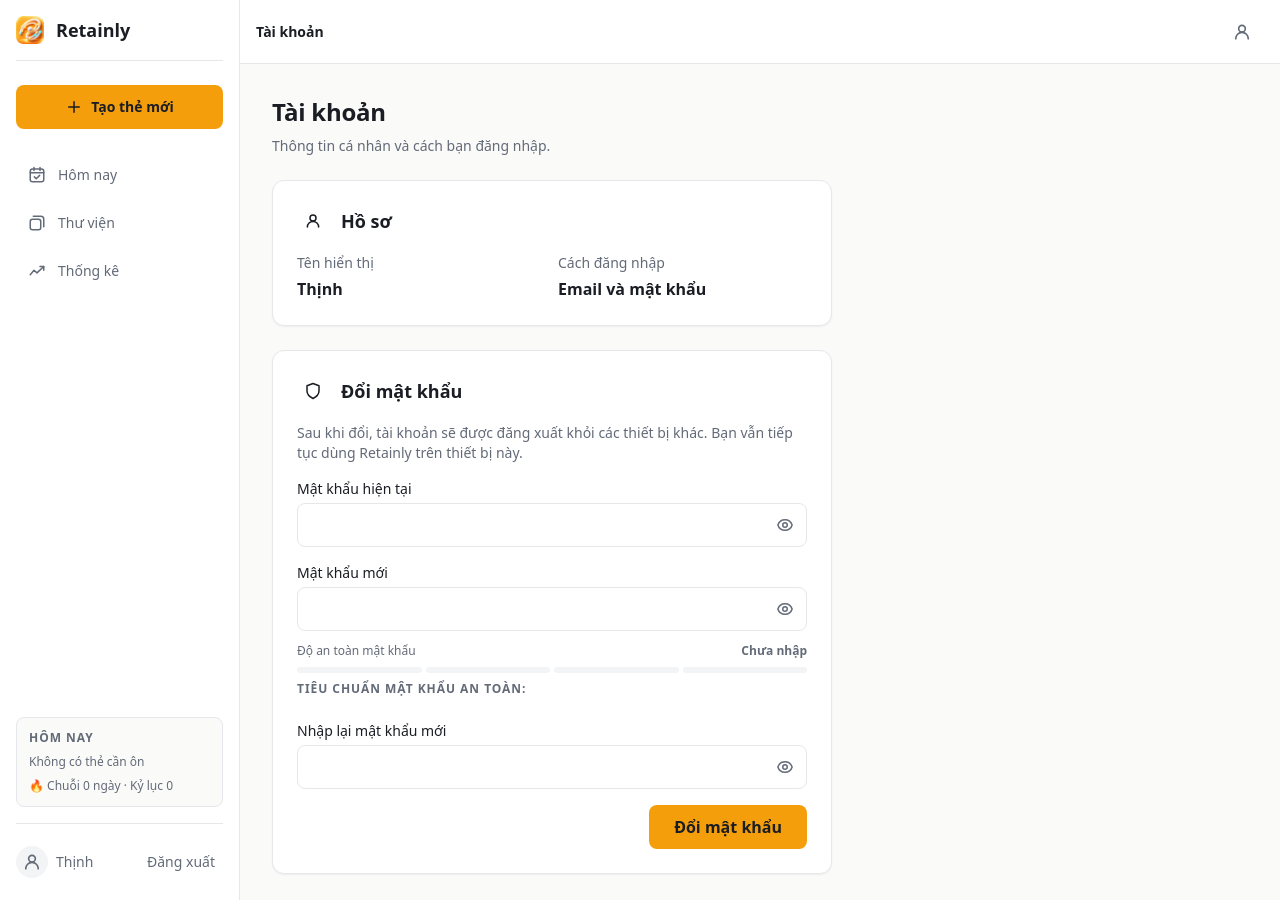
Test: E11-S1-T2 — màn Tài khoản › TC-076: sai mật khẩu hiện tại (401) báo ở đúng ô và KHÔNG bị đẩy về /login
In the password field labelled "Mật khẩu hiện tại": (552, 525) [297,503,807,547], type "mat-khau-cu"
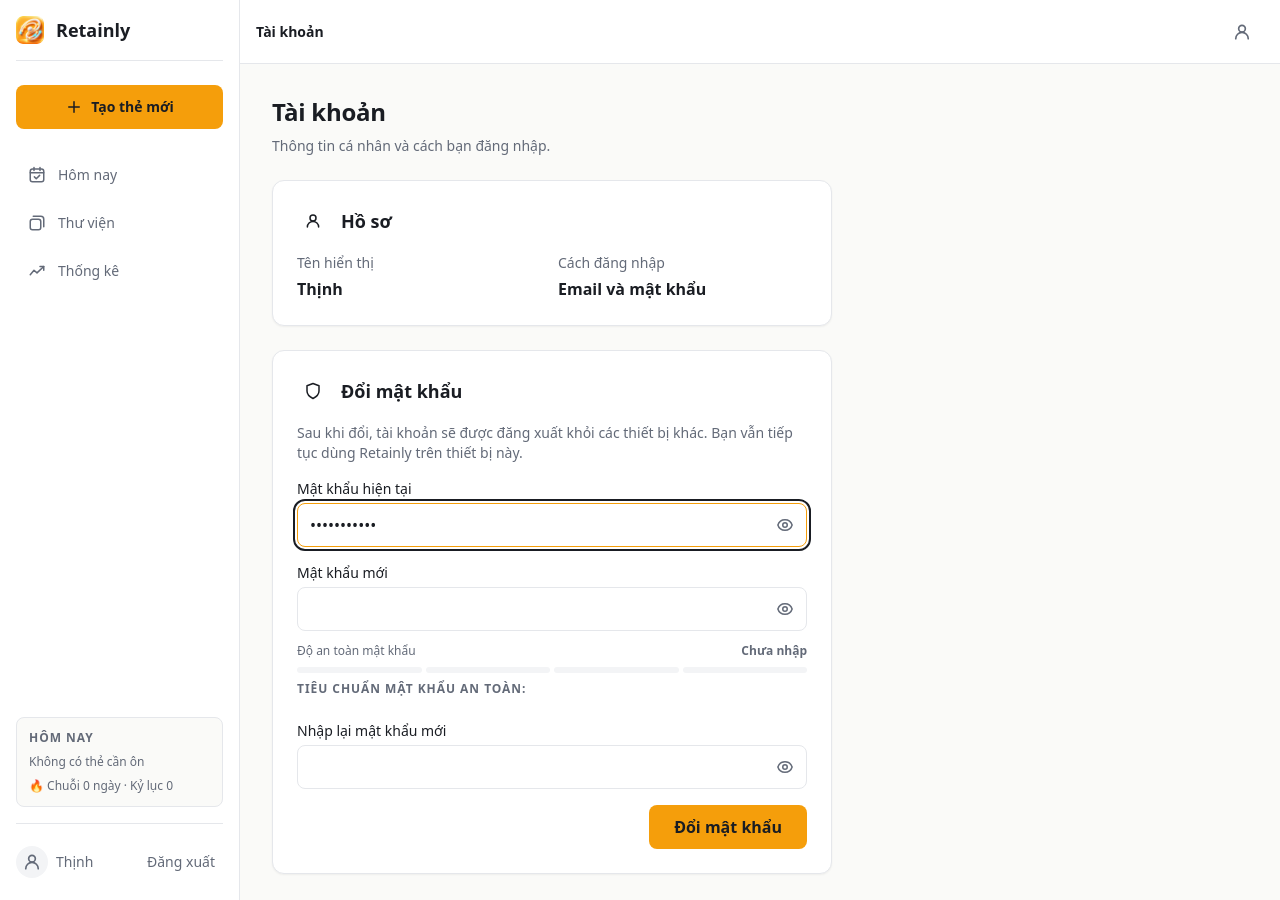
In the password field labelled "Mật khẩu mới": (552, 609) [297,587,807,631], type "Mat-khau-moi-3"
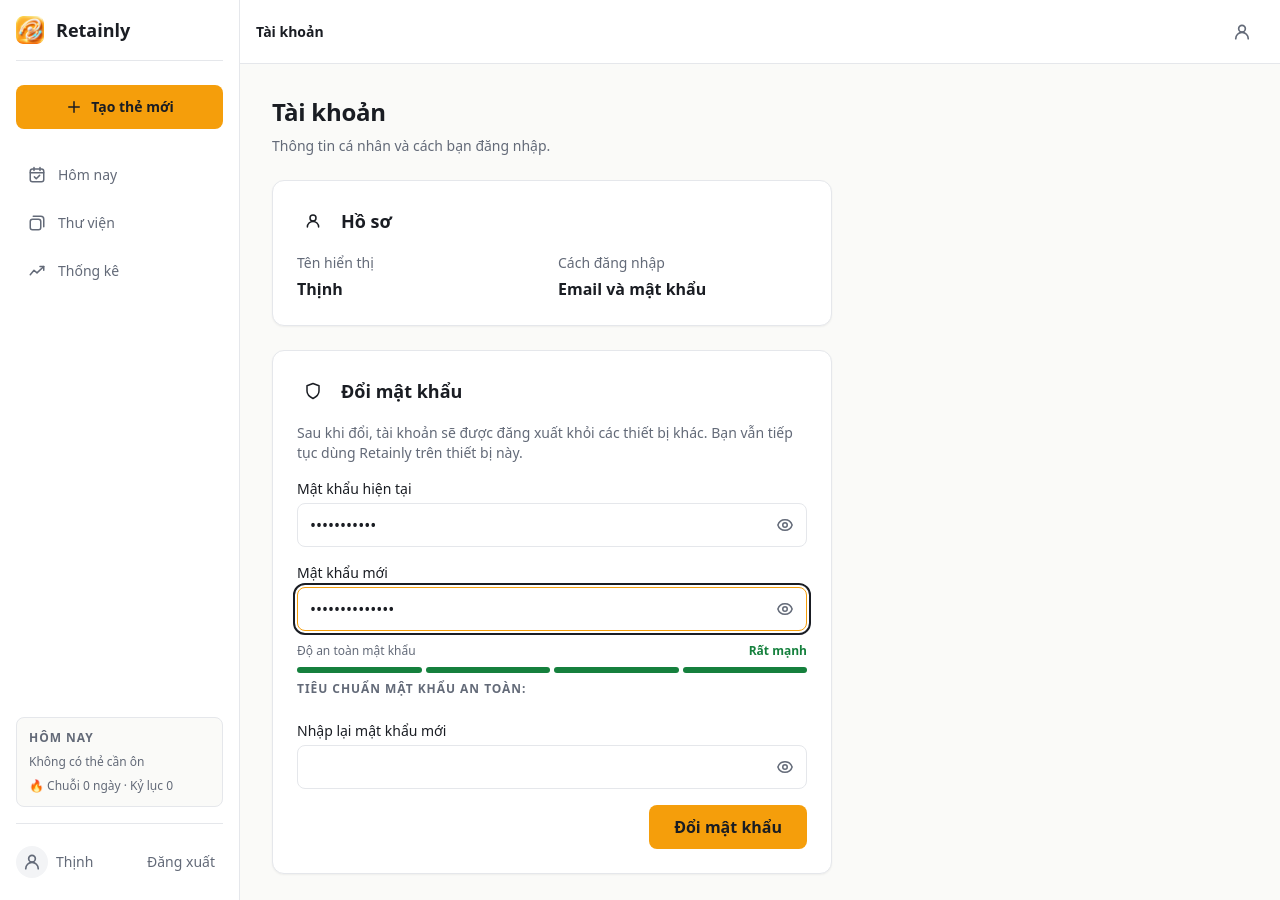
In the password field labelled "Nhập lại mật khẩu mới": (552, 767) [297,745,807,789], type "Mat-khau-moi-3"
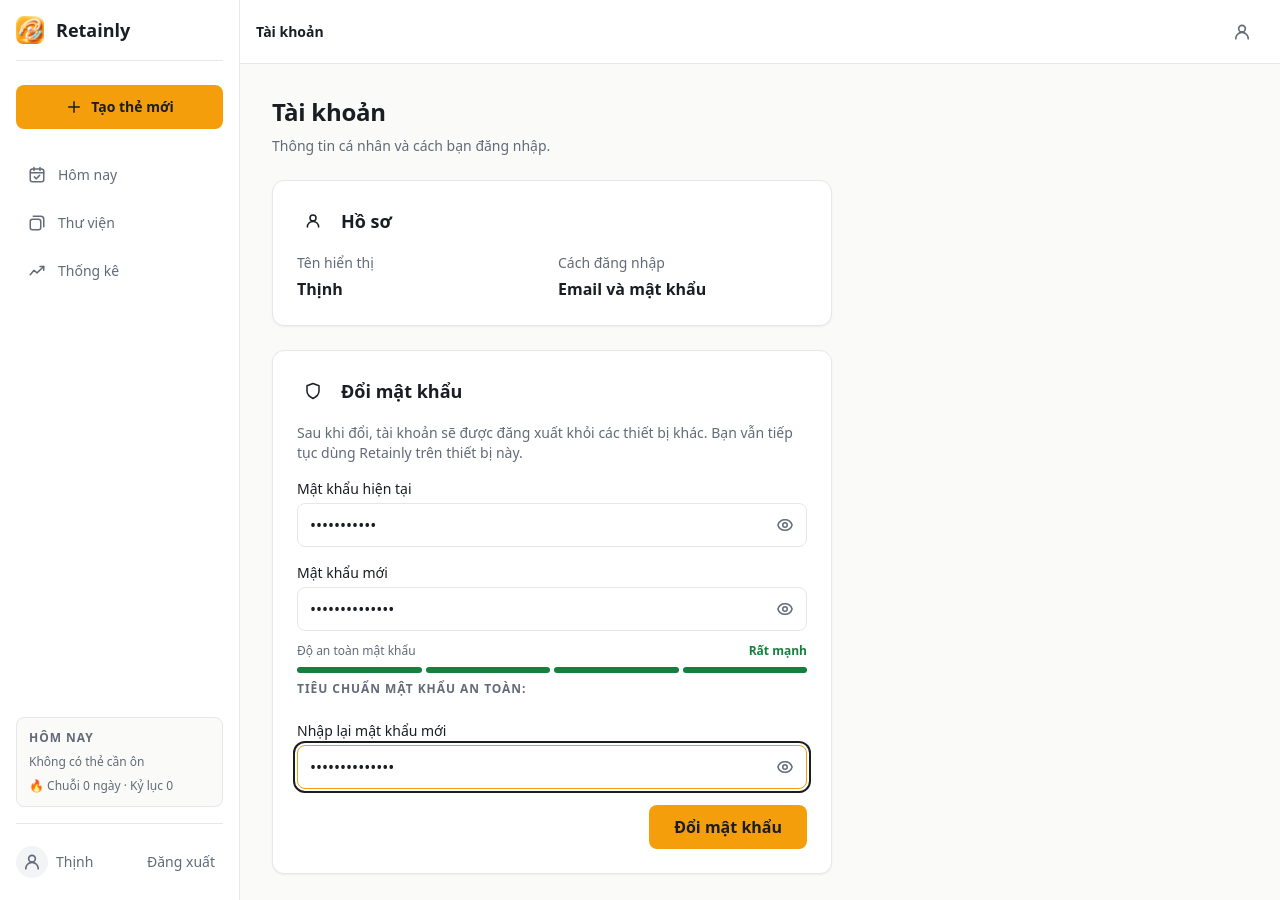
Click the button "Đổi mật khẩu": (728, 827) [649,805,807,849]
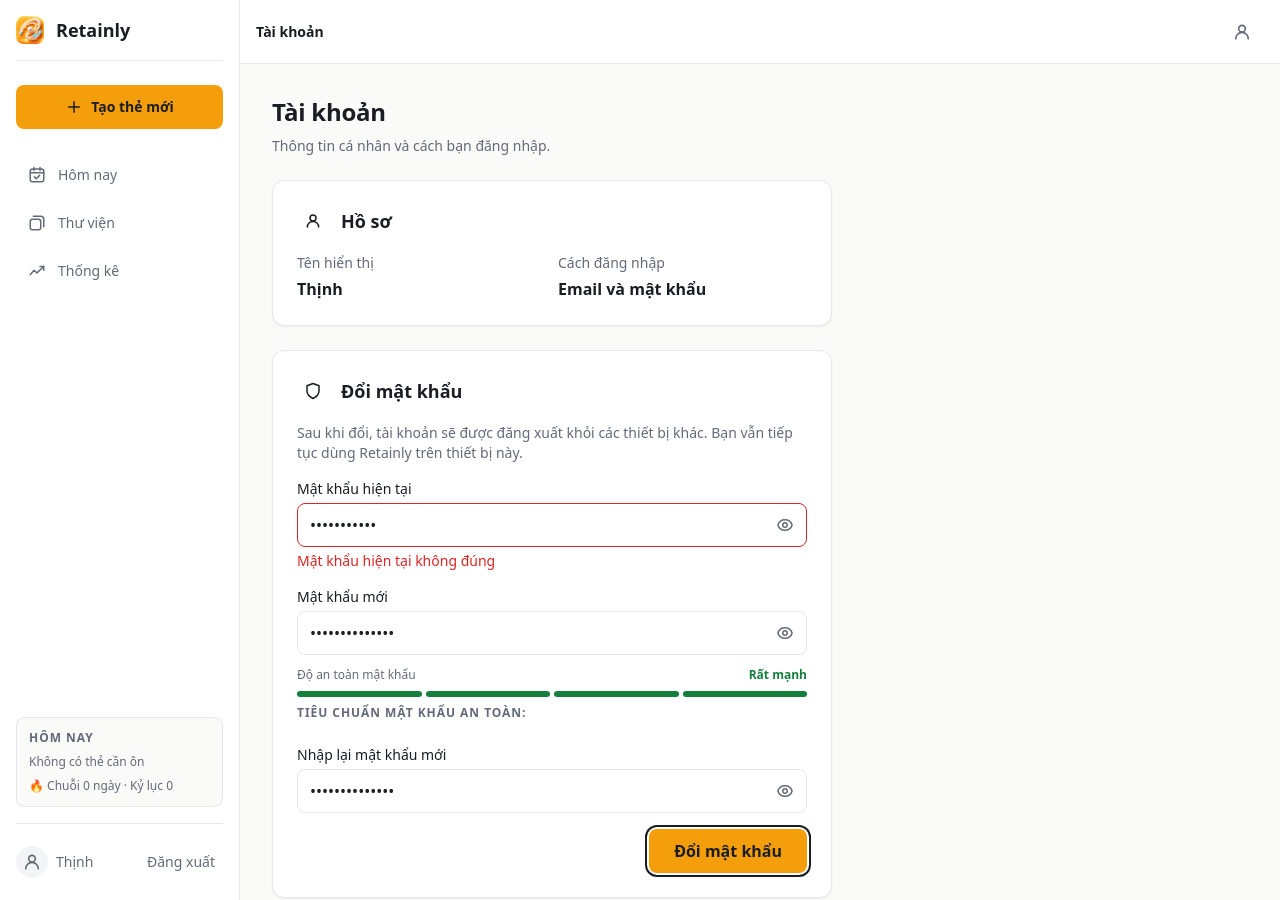
Expected: the heading "Tài khoản" is shown, [272,95,386,128]
Expected: the text "Mật khẩu hiện tại không đúng" is shown, [297,551,495,570]
In the password field labelled "Mật khẩu hiện tại": (552, 525) [297,503,807,547], type "x"
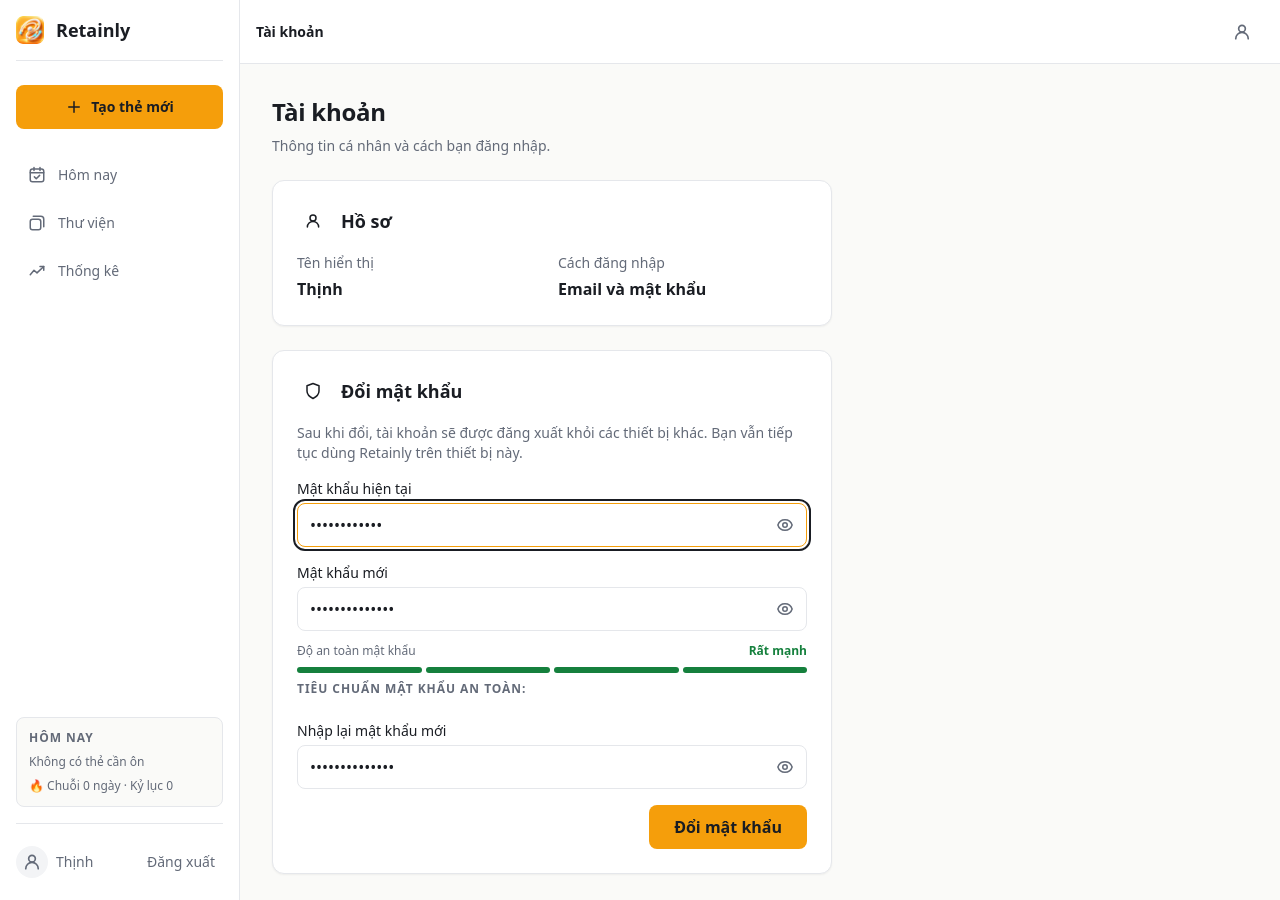
Expected: the text "Mật khẩu hiện tại không đúng" is gone
